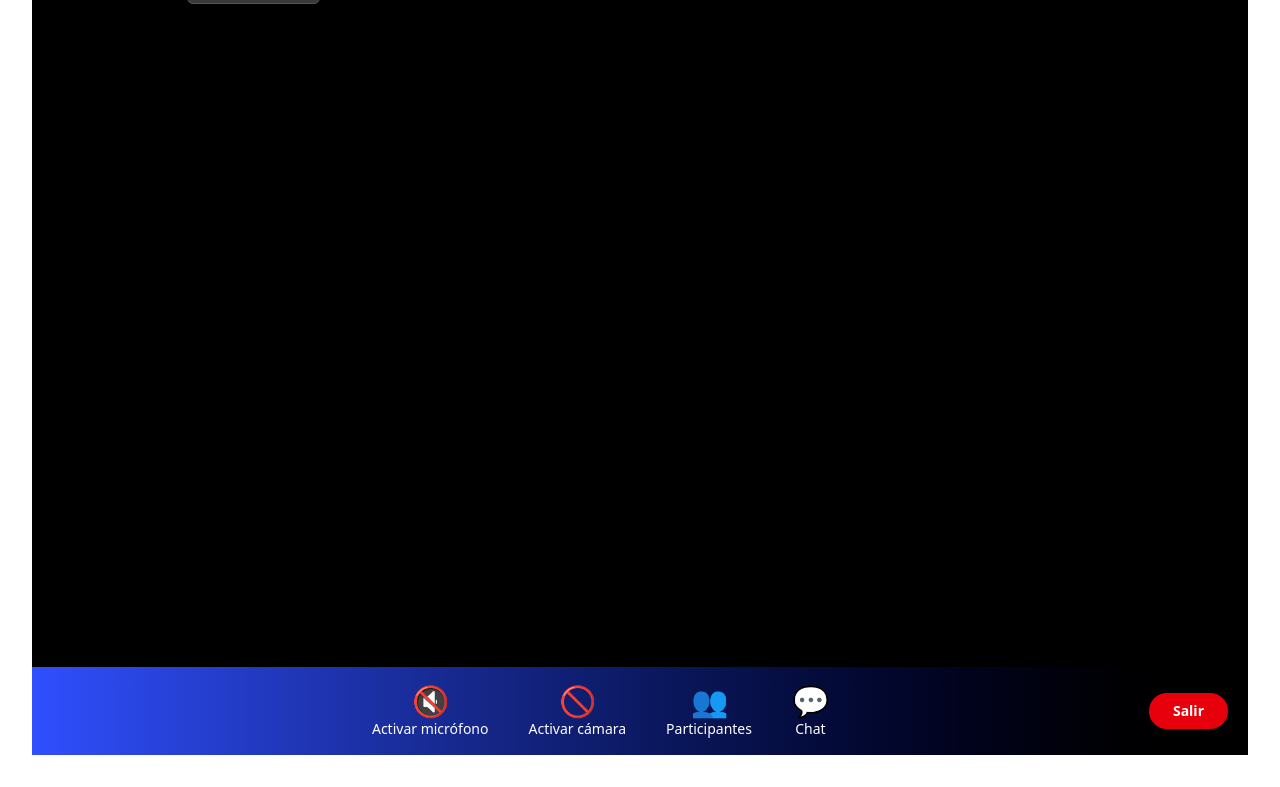
Test: Meeting Component - pruebas unitarias › Toggle de audio (micrófono) › debe cambiar a "Desactivar" al hacer click
(page scrolled)
Click the button titled "Activar/Desactivar de microfono" at (430, 711), box [372,683,488,739]
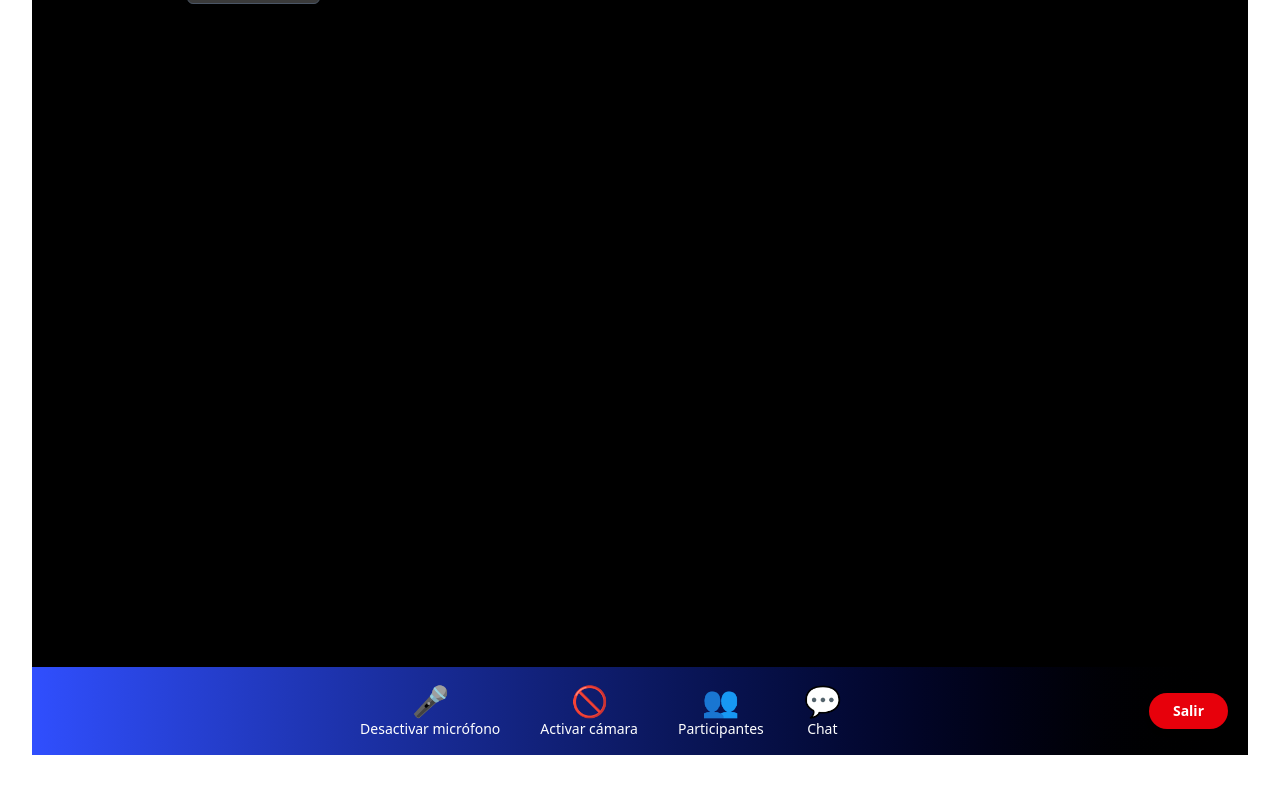
Now the text "Desactivar micrófono" is shown, box [360,719,500,739]
Now the text "🎤" is shown, box [412,683,449,719]
